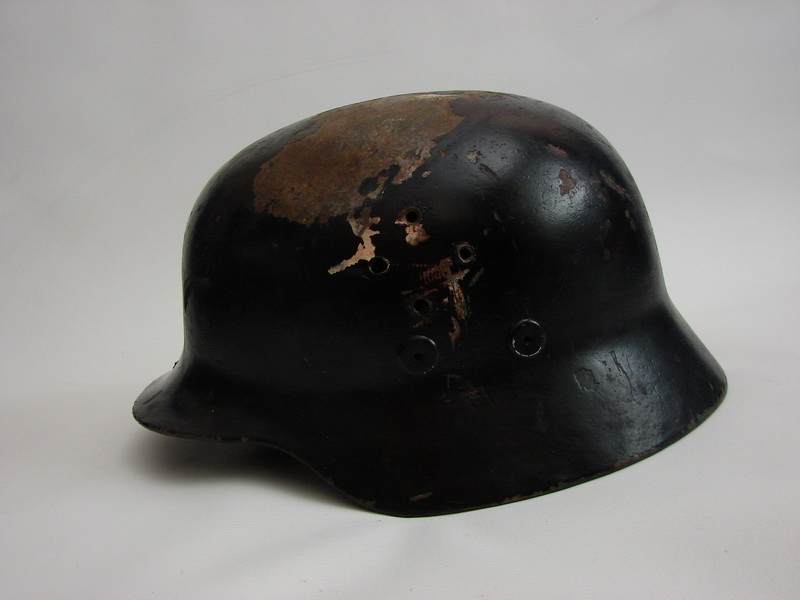with_helmet: (126, 81, 733, 523)
